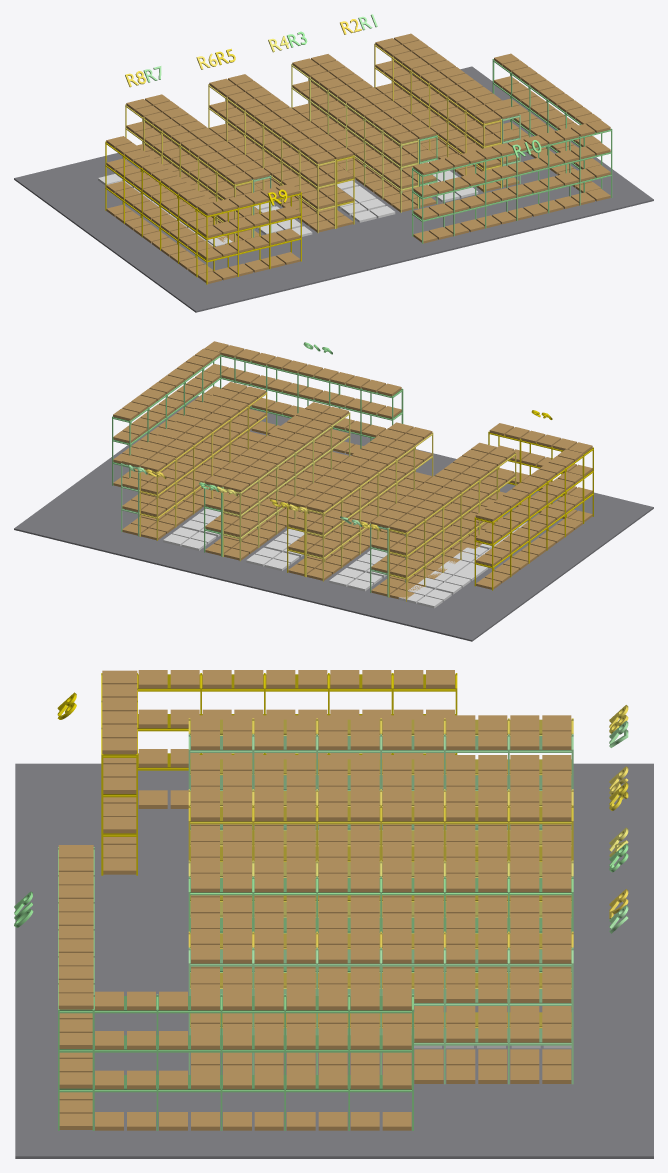
Rendered from warehouse.glb.
The picture shows the model from 3 angles, top to bottom: view 1: azimuth 30°, elevation 25°; view 2: azimuth 150°, elevation 25°; view 3: azimuth 270°, elevation 25°; orthographic projection. The views are drawn at different scales.
Visible parts, largest first — view 1: Floor_Main, All_Racks_Combined; view 2: Floor_Main, All_Racks_Combined; view 3: Floor_Main, All_Racks_Combined.
Boxes of the visible parts, left/top/right/bottom form: Floor_Main: left=14, top=66, right=653, bottom=312; All_Racks_Combined: left=105, top=14, right=612, bottom=284; Floor_Main: left=14, top=396, right=653, bottom=641; All_Racks_Combined: left=112, top=342, right=593, bottom=601; Floor_Main: left=15, top=763, right=653, bottom=1158; All_Racks_Combined: left=14, top=673, right=628, bottom=1130.
Bounding box in the file's own units: 32 × 5.72 × 22.04.
